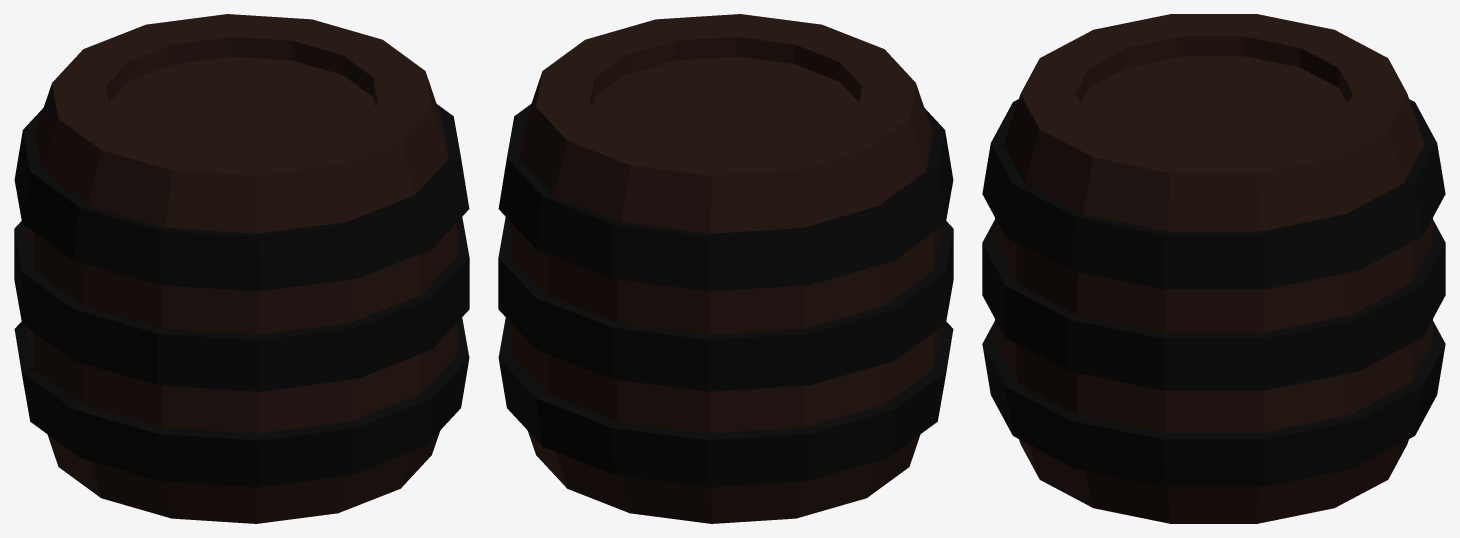
Rendered from barrel2(F212).obj.
3 views of the same model, side by side, from view 1: azimuth 30°, elevation 25°; view 2: azimuth 150°, elevation 25°; view 3: azimuth 270°, elevation 25° (orthographic).
Visible parts, largest first — view 1: Cylinder; view 2: Cylinder; view 3: Cylinder.
Boxes of the visible parts, x1,y1,x2,y2 form: Cylinder: (14, 14, 469, 523); Cylinder: (498, 14, 953, 523); Cylinder: (982, 14, 1445, 523).
Bounding box in the file's own units: 2.34 × 2 × 2.4.
